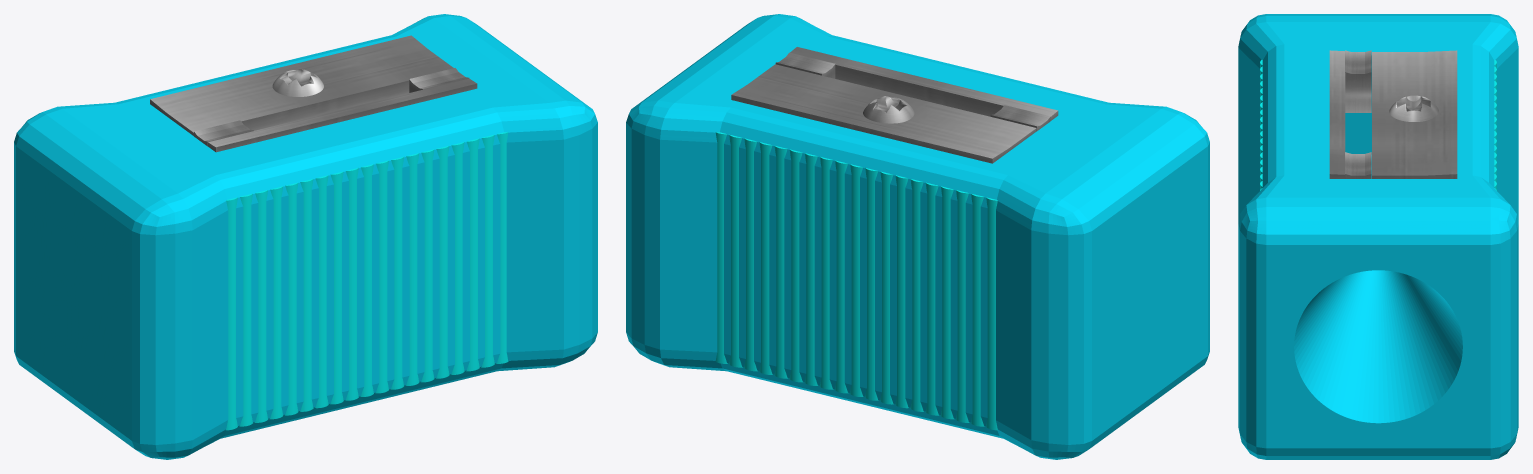
File: sharpener.glb
The picture shows the model from 3 angles, left to right: view 1: azimuth 30°, elevation 25°; view 2: azimuth 150°, elevation 25°; view 3: azimuth 270°, elevation 25°; orthographic projection. The views are drawn at different scales.
Parts seen in each view (by area): view 1: Roundcube.001_Material_0, Cylinder.001_Material.001_0, Cube_Material.002_0, Sphere_Material.003_0; view 2: Roundcube.001_Material_0, Cylinder.001_Material.001_0, Cube_Material.002_0, Sphere_Material.003_0; view 3: Roundcube.001_Material_0, Cube_Material.002_0, Sphere_Material.003_0, Cylinder.001_Material.001_0.
Boxes of the visible parts, bbox=[...] form: Roundcube.001_Material_0: bbox=[14, 14, 597, 459]; Cylinder.001_Material.001_0: bbox=[226, 132, 508, 430]; Cube_Material.002_0: bbox=[150, 35, 477, 152]; Sphere_Material.003_0: bbox=[194, 68, 469, 146]; Roundcube.001_Material_0: bbox=[626, 14, 1209, 459]; Cylinder.001_Material.001_0: bbox=[715, 132, 997, 430]; Cube_Material.002_0: bbox=[731, 47, 1058, 163]; Sphere_Material.003_0: bbox=[775, 52, 1050, 130]; Roundcube.001_Material_0: bbox=[1238, 14, 1518, 459]; Cube_Material.002_0: bbox=[1329, 50, 1457, 178]; Sphere_Material.003_0: bbox=[1345, 50, 1438, 178]; Cylinder.001_Material.001_0: bbox=[1260, 60, 1496, 190].
Bounding box in the file's own units: 2.18 × 1.25 × 1.18.
4 materials, 2 textured.
